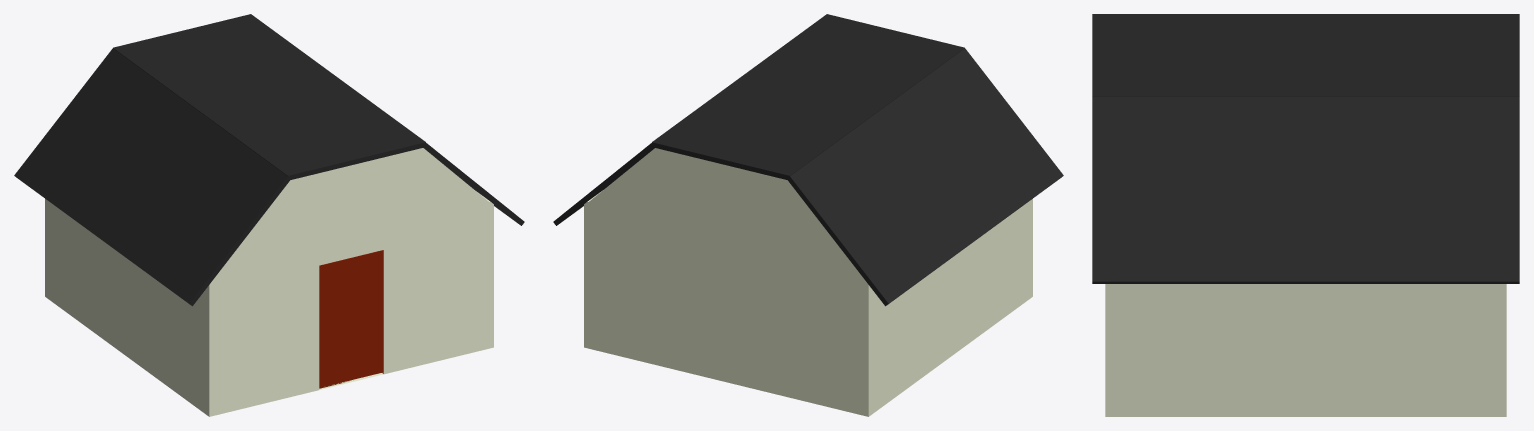
File: House1.fbx
The picture shows the model from 3 angles, left to right: view 1: azimuth 30°, elevation 25°; view 2: azimuth 150°, elevation 25°; view 3: azimuth 270°, elevation 25°; orthographic projection. The views are drawn at different scales.
Parts seen in each view (by area): view 1: Wall4, Roof1, Roof3, Wall1, Door1, Roof2, Wall2; view 2: Wall3, Roof1, Roof3, Wall1, Roof2, Wall2; view 3: Roof2, Wall2, Roof3.
Part boxes in pixels (x1,y1,x2,y2): Wall4: (214,148,489,415); Roof1: (14,48,291,306); Roof3: (113,14,425,180); Wall1: (45,199,213,416); Door1: (319,250,383,387); Roof2: (422,143,524,225); Wall2: (476,191,493,348); Wall3: (588,148,863,415); Roof1: (786,48,1063,306); Roof3: (652,14,964,180); Wall1: (864,199,1032,416); Roof2: (553,143,655,225); Wall2: (584,190,602,348); Roof2: (1092,96,1519,283); Wall2: (1105,284,1506,416); Roof3: (1092,14,1519,96).
Bounding box in the file's own units: 719 × 465 × 650.
